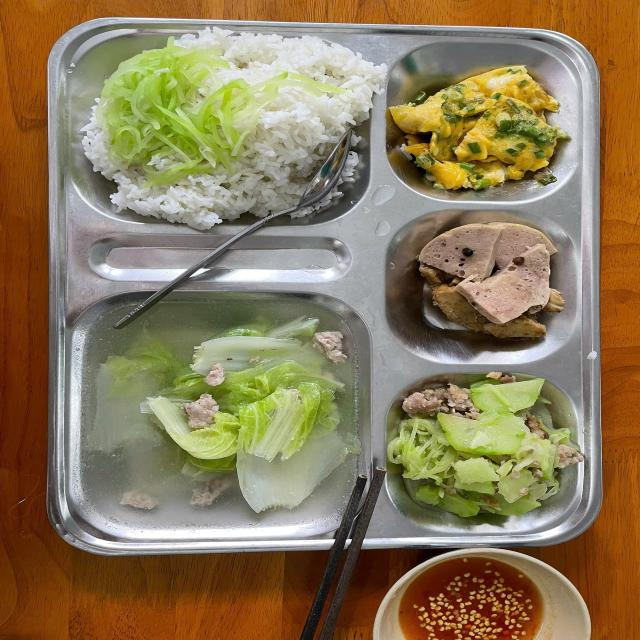trung_chien: (385, 73, 565, 181)
